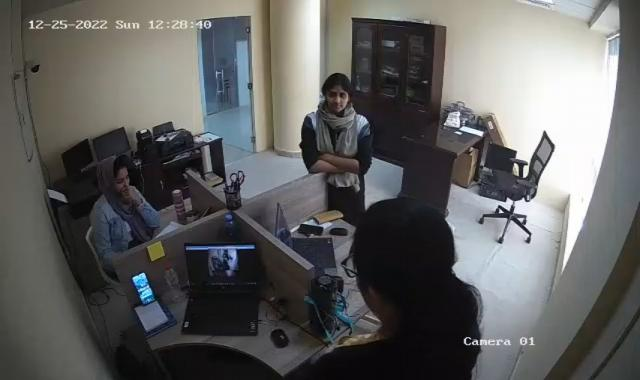no_hairnet: (342, 193, 467, 323), (320, 72, 353, 112), (96, 157, 130, 188)
